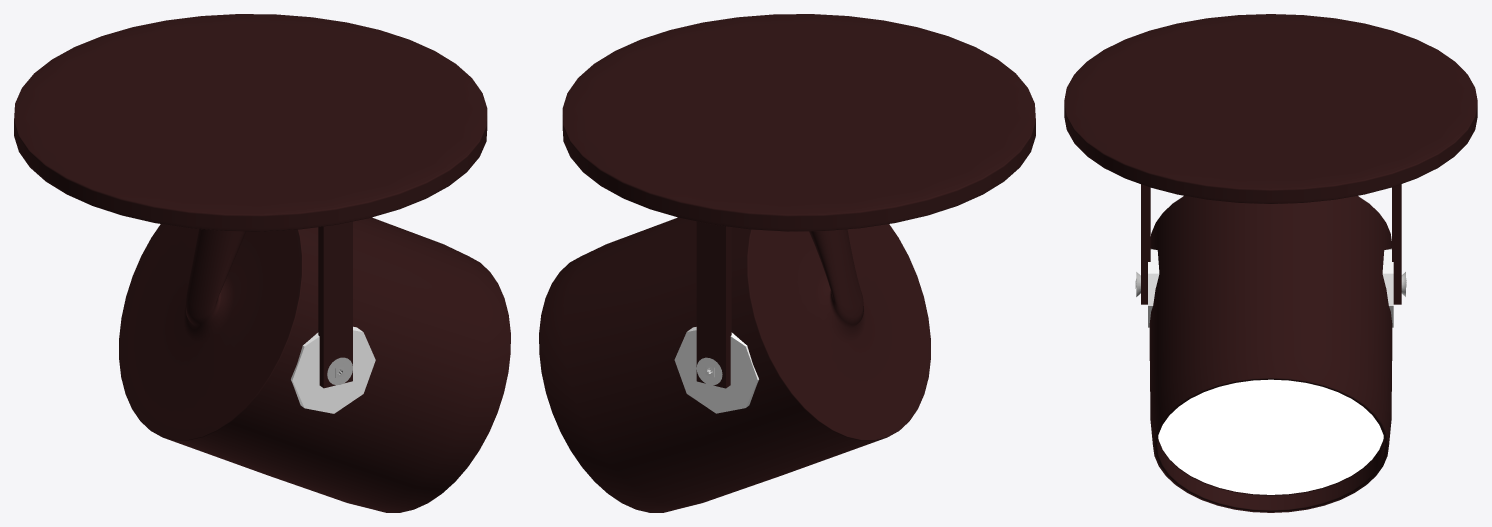
The model's file is light3.glb.
3 renders of one model, left to right at view 1: azimuth 30°, elevation 25°; view 2: azimuth 150°, elevation 25°; view 3: azimuth 270°, elevation 25°, orthographic. The views are drawn at different scales.
Parts seen in each view (by area): view 1: pCube6; view 2: pCube6; view 3: pCube6.
Part boxes in pixels (x1,y1,x2,y2): pCube6: (14,14,510,512); pCube6: (539,14,1035,512); pCube6: (1064,14,1477,512).
Bounding box in the file's own units: 0.0357 × 0.0328 × 0.0337.
